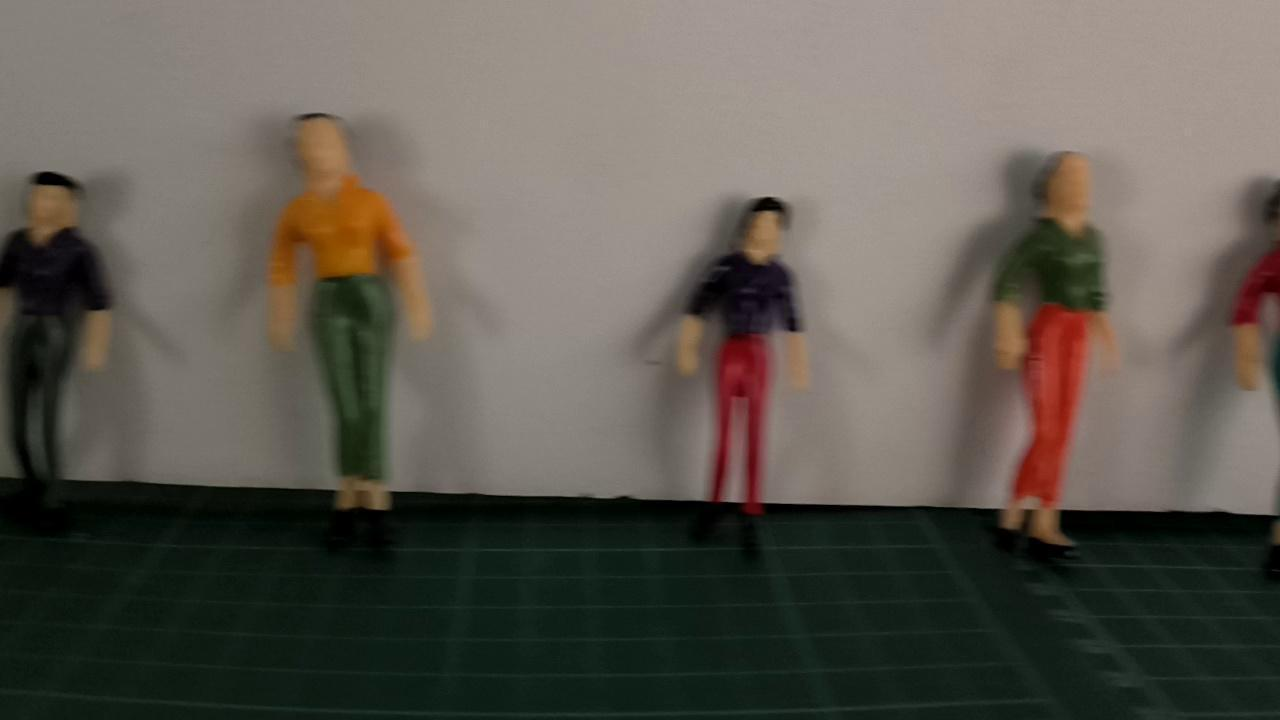human: (267, 116, 438, 514), (986, 148, 1125, 553), (674, 194, 814, 543), (0, 170, 116, 499), (1228, 180, 1280, 570)
